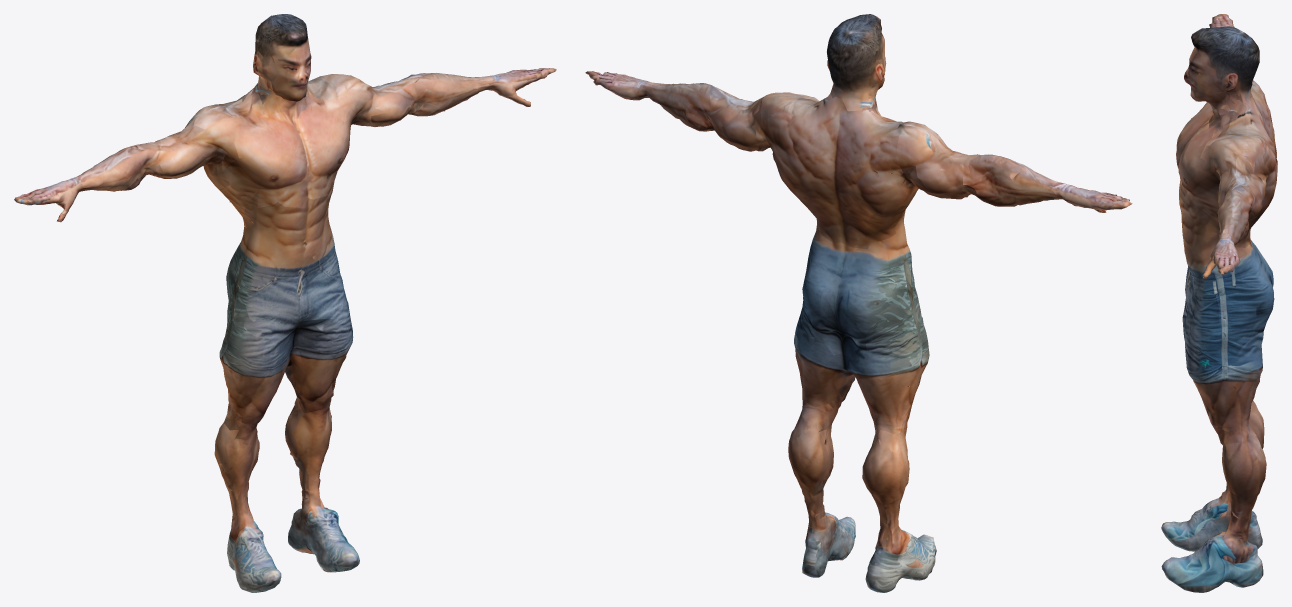
File: muscle.glb
3 renders of one model, left to right at view 1: azimuth 30°, elevation 25°; view 2: azimuth 150°, elevation 25°; view 3: azimuth 270°, elevation 25°, orthographic. The views are drawn at different scales.
Parts seen in each view (by area): view 1: Mesh_0, Thighs, Chest, Abs, Shoulders, Forearms, Calves, Head, Biceps, Hip; view 2: Back, Mesh_0, Thighs, Hip, Forearms, Calves, Biceps, Head, Shoulders, Abs; view 3: Mesh_0, Thighs, Head, Abs, Calves, Hip, Chest, Shoulders, Back, Biceps, Forearms.
Boxes of the visible parts, left/top/right/bottom form: Mesh_0: left=14, top=16, right=556, bottom=592; Thighs: left=219, top=299, right=353, bottom=428; Chest: left=218, top=110, right=350, bottom=208; Abs: left=215, top=181, right=337, bottom=296; Shoulders: left=185, top=74, right=387, bottom=201; Forearms: left=76, top=73, right=486, bottom=191; Calves: left=214, top=401, right=331, bottom=502; Head: left=253, top=14, right=311, bottom=104; Biceps: left=141, top=74, right=417, bottom=180; Hip: left=226, top=248, right=347, bottom=335; Back: left=758, top=93, right=906, bottom=249; Mesh_0: left=585, top=15, right=1132, bottom=592; Thighs: left=794, top=301, right=929, bottom=435; Hip: left=802, top=249, right=922, bottom=357; Forearms: left=651, top=83, right=1066, bottom=206; Calves: left=788, top=416, right=909, bottom=523; Biceps: left=703, top=88, right=980, bottom=199; Head: left=827, top=14, right=886, bottom=111; Shoulders: left=756, top=92, right=937, bottom=221; Abs: left=805, top=205, right=912, bottom=277; Mesh_0: left=1161, top=14, right=1263, bottom=592; Thighs: left=1182, top=306, right=1262, bottom=432; Head: left=1184, top=26, right=1259, bottom=115; Abs: left=1179, top=191, right=1261, bottom=300; Calves: left=1219, top=400, right=1266, bottom=523; Hip: left=1189, top=243, right=1274, bottom=344; Chest: left=1176, top=102, right=1219, bottom=218; Shoulders: left=1200, top=80, right=1265, bottom=190; Back: left=1234, top=83, right=1277, bottom=247; Biceps: left=1218, top=155, right=1266, bottom=220; Forearms: left=1217, top=184, right=1251, bottom=243.
Bounding box in the file's own units: 1.2 × 1.17 × 0.2282.
Materials: 1 (1 with a texture image).
